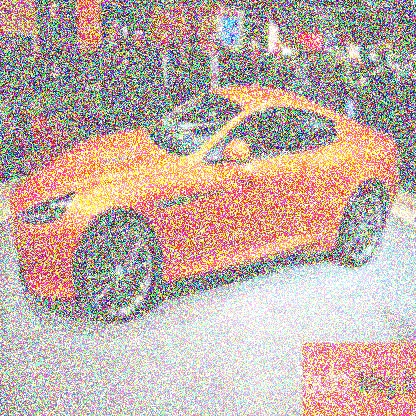Vehicle: (11, 82, 402, 328)
